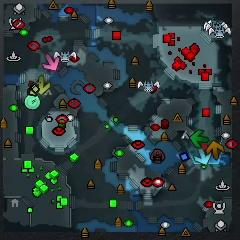p2: (24, 94, 40, 109)
x1: (43, 54, 59, 71)
x2: (35, 76, 51, 94)
x3: (194, 148, 211, 164)
x4: (190, 129, 208, 147)
x5: (207, 141, 224, 160)
